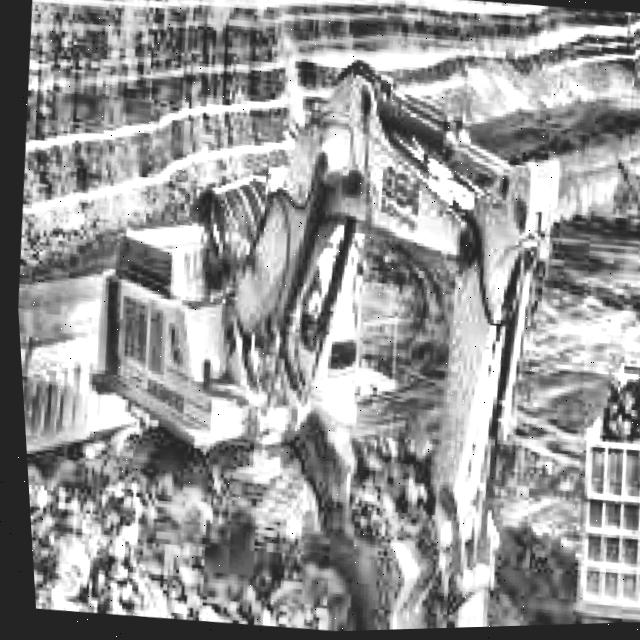dump_truck: (542, 354, 640, 628), (12, 247, 114, 488)
excavator: (49, 15, 598, 639)
